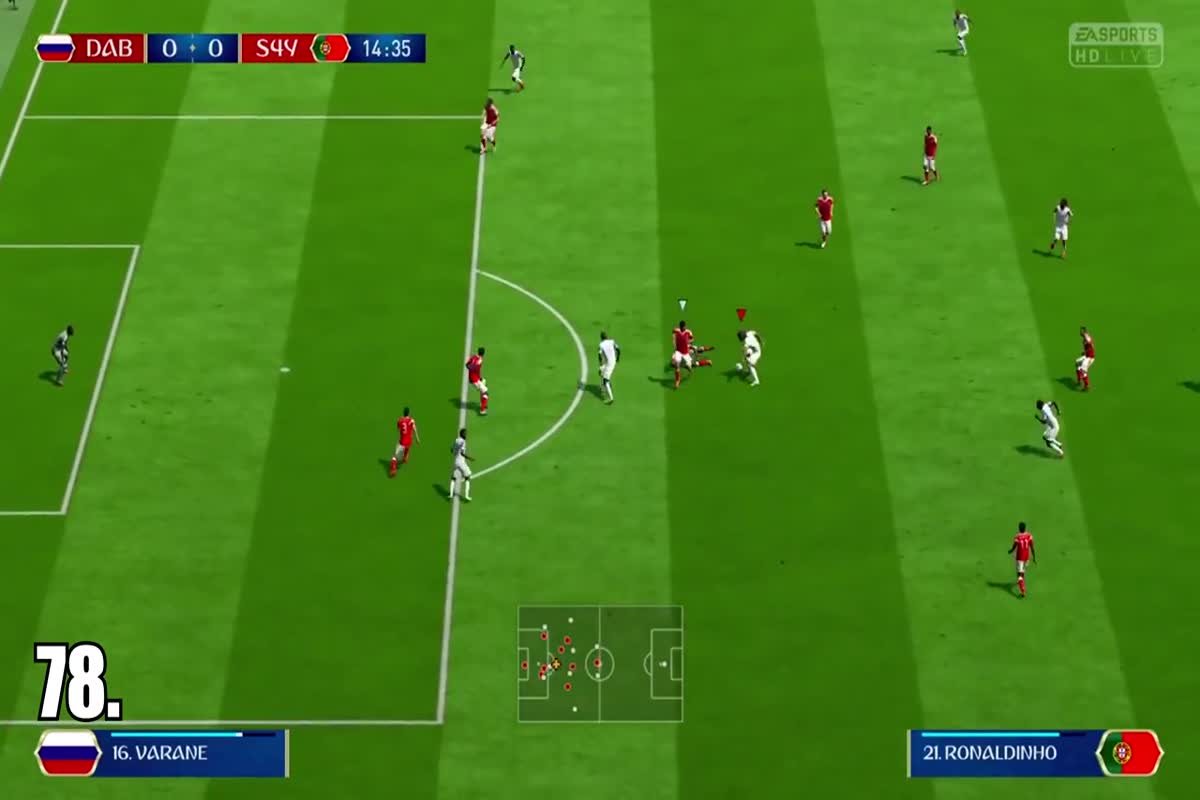ball: (731, 360, 750, 378)
